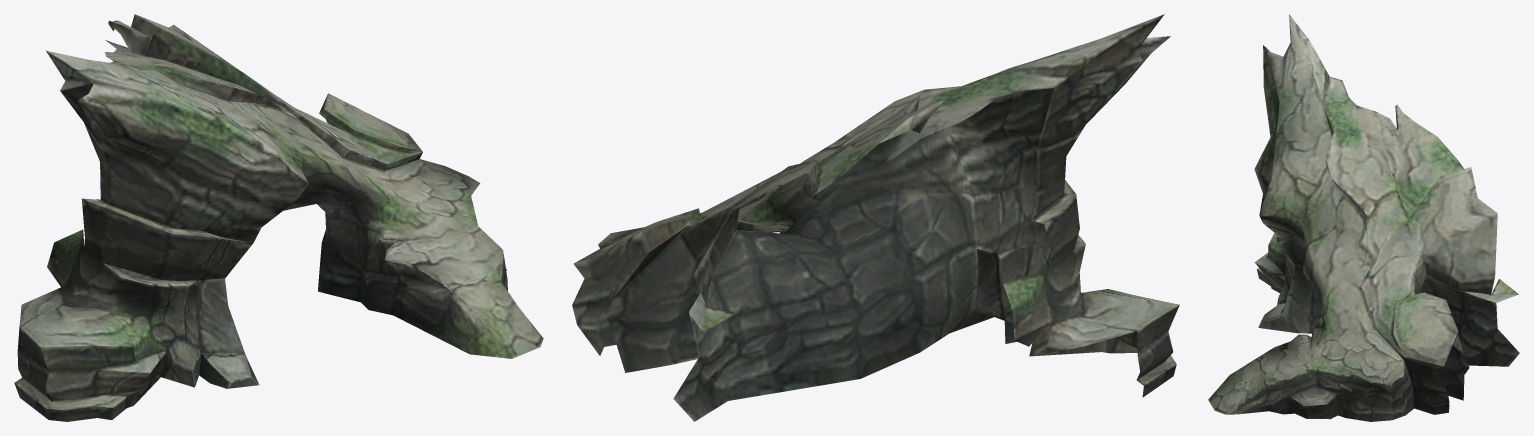
File: 4002_Item_shitou_8.FBX
The picture shows the model from 3 angles, left to right: view 1: azimuth 30°, elevation 25°; view 2: azimuth 150°, elevation 25°; view 3: azimuth 270°, elevation 25°; orthographic projection. The views are drawn at different scales.
Visible parts, largest first — view 1: 4002_Item_shitou_8; view 2: 4002_Item_shitou_8; view 3: 4002_Item_shitou_8.
Boxes of the visible parts, x1,y1,x2,y2 form: 4002_Item_shitou_8: (14, 14, 543, 421); 4002_Item_shitou_8: (572, 14, 1179, 421); 4002_Item_shitou_8: (1208, 14, 1519, 421).
Size of the model in its own units: 1163 by 910 by 805.
